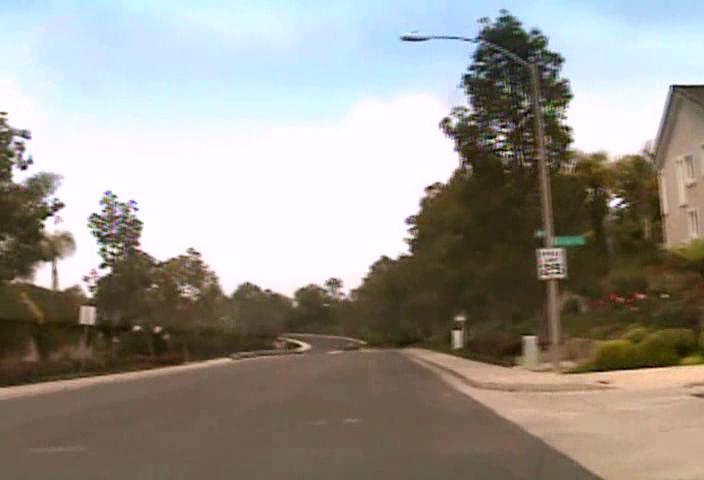speedLimit25: (536, 246, 566, 279)
